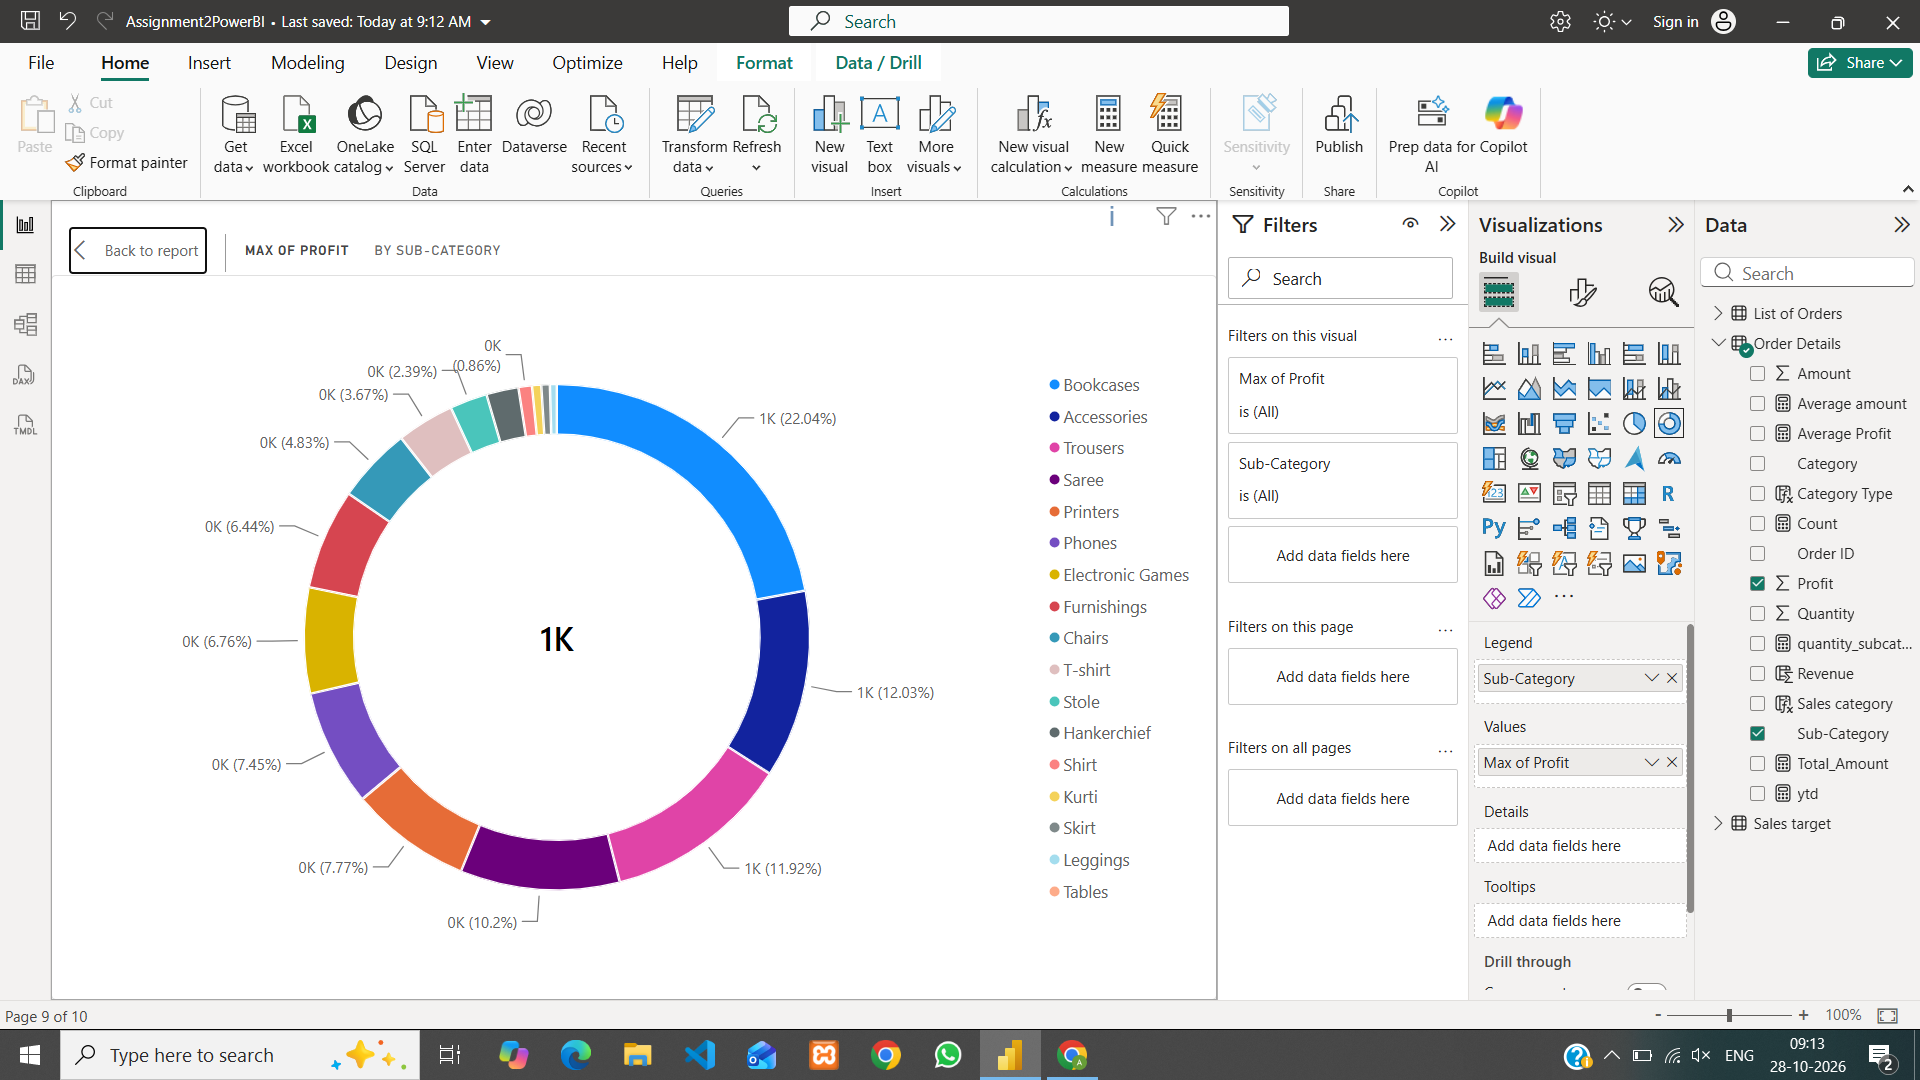

This screenshot's page, from the dashboard's own definition file:
{"tool":"powerbi","page":{"name":"Donut  Chart","canvas":[1920,1080],"ordinal":8},"visuals":[{"type":"donutChart","fields":{"Category":["Order Details.Sub-Category"],"Y":["Max(Order Details.Profit)"]},"box":[146.1,61.7,1774.3,918],"z":0}]}

Visuals, with their boxes on the page's 1920x1080 design canvas (x1, y1, x2, y2). These are canvas units, not pixel positions in the 1920x1080 screenshot, which may show the page scaled, cropped or inside an application window:
donutChart - Order Details.Sub-Category x Max(Order Details.Profit): detection(146, 62, 1920, 980)
